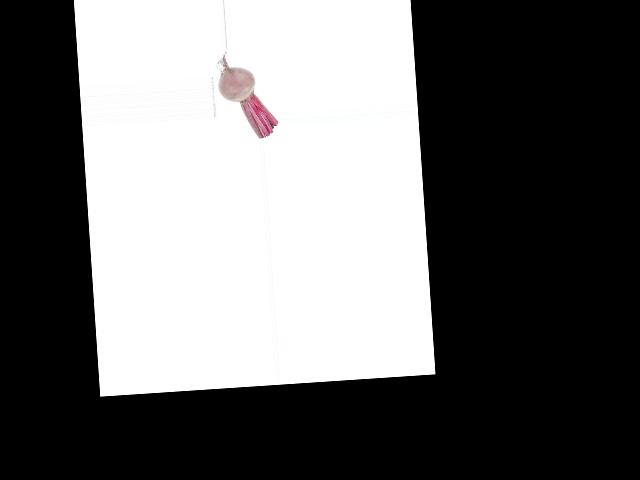beet: (216, 49, 278, 141)
